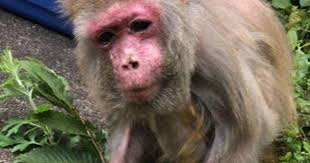monkey: (21, 0, 291, 163)
